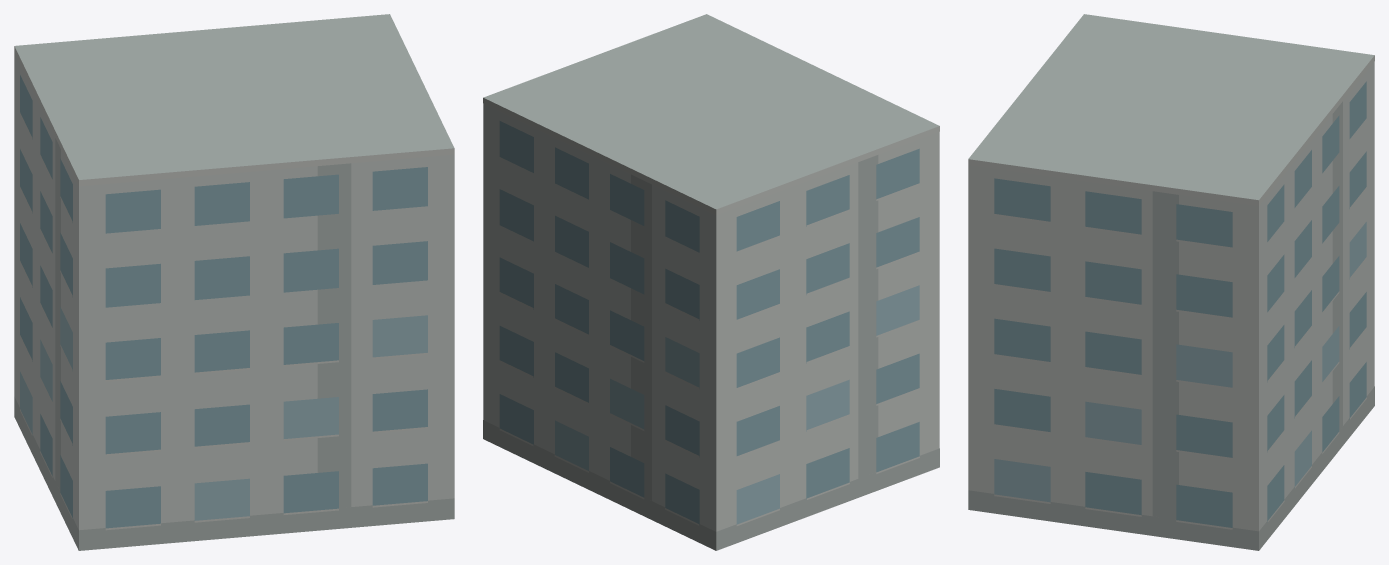
The model's file is survey-upis-32613512.glb.
The picture shows the model from 3 angles, left to right: view 1: azimuth 30°, elevation 25°; view 2: azimuth 150°, elevation 25°; view 3: azimuth 270°, elevation 25°; orthographic projection. The views are drawn at different scales.
Visible parts, largest first — view 1: survey-upis-32613512.tmp; view 2: survey-upis-32613512.tmp; view 3: survey-upis-32613512.tmp.
Part boxes in pixels (x1,y1,x2,y2): survey-upis-32613512.tmp: [14, 14, 454, 550]; survey-upis-32613512.tmp: [483, 14, 939, 550]; survey-upis-32613512.tmp: [968, 14, 1374, 550].
Bounding box in the file's own units: 16.29 × 14.3 × 15.04.
